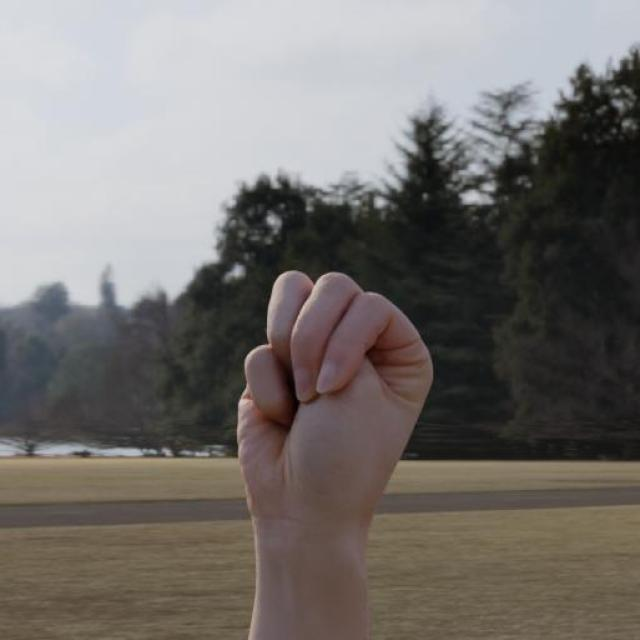M: (234, 266, 437, 534)
